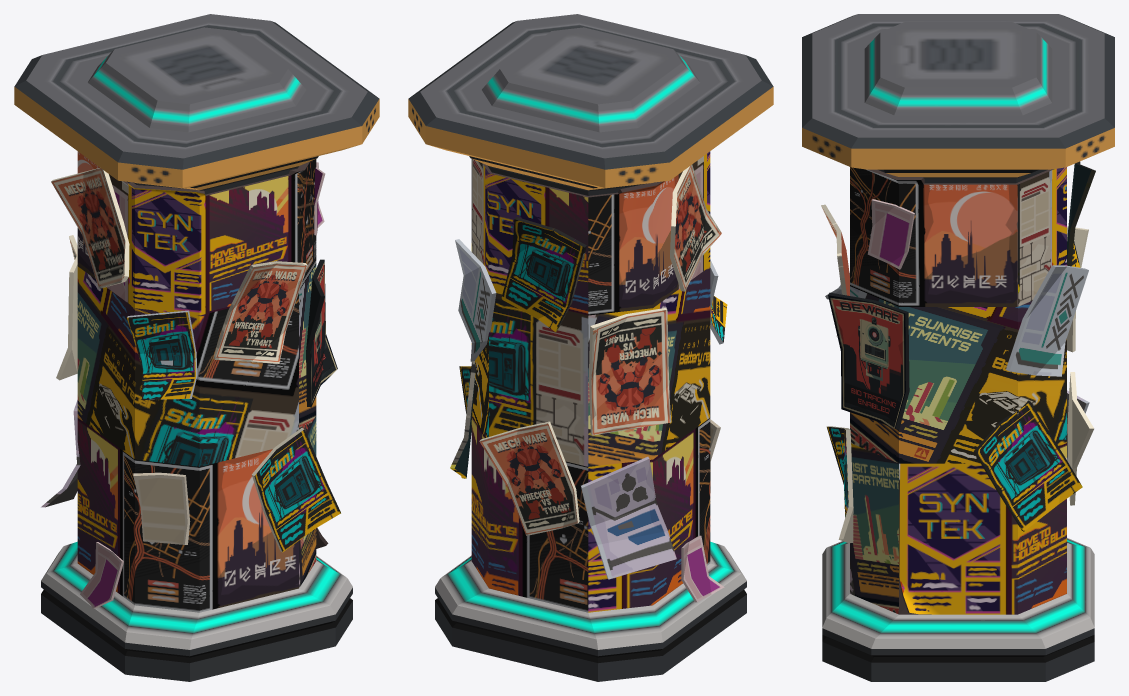
Rendered from SM_Prop_Information_Booth_01.fbx.
3 views of the same model, side by side, from view 1: azimuth 30°, elevation 25°; view 2: azimuth 150°, elevation 25°; view 3: azimuth 270°, elevation 25° (orthographic). The views are drawn at different scales.
Parts seen in each view (by area): view 1: SM_Prop_Information_Booth_01; view 2: SM_Prop_Information_Booth_01; view 3: SM_Prop_Information_Booth_01.
Part boxes in pixels (x1,y1,x2,y2): SM_Prop_Information_Booth_01: (14, 14, 379, 681); SM_Prop_Information_Booth_01: (408, 14, 773, 681); SM_Prop_Information_Booth_01: (802, 14, 1114, 681).
Bounding box in the file's own units: 135 × 271 × 135.
